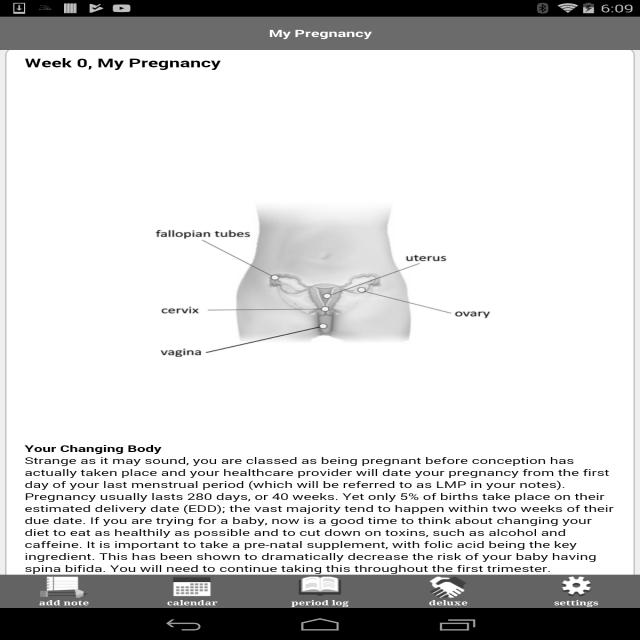ImageView: (110, 178, 568, 383), (38, 571, 92, 596), (418, 575, 474, 595), (169, 573, 226, 592), (294, 578, 350, 596), (556, 574, 600, 596)
TextView: (19, 441, 608, 567), (20, 52, 223, 74), (262, 26, 380, 42)
